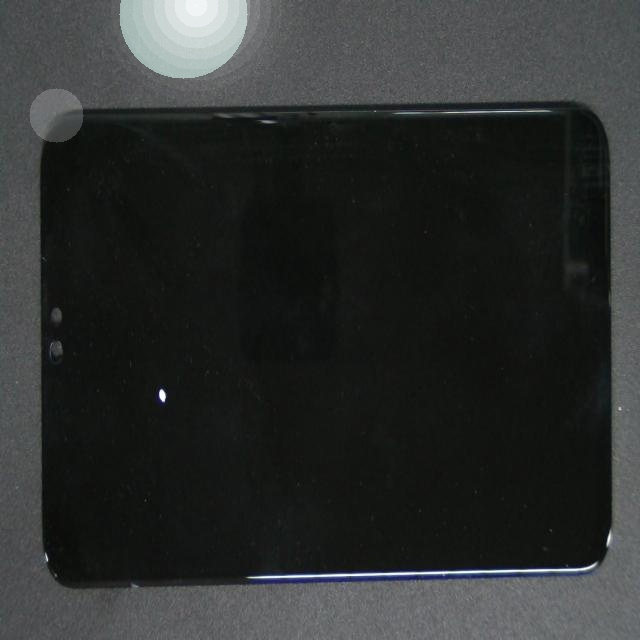stain: (87, 141, 226, 554)
